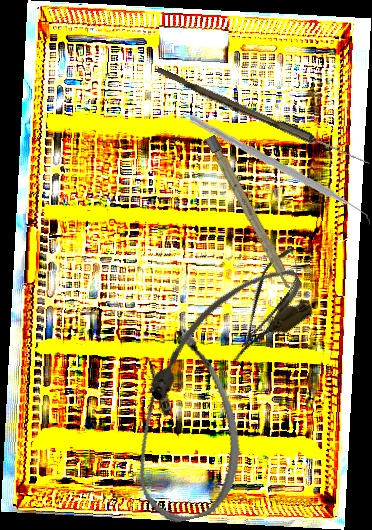Cannula: (128, 255, 320, 413), (108, 323, 255, 529)
Chopper: (189, 105, 371, 243)
Micro Scissor: (227, 240, 311, 357)
Scalpel Handle: (205, 134, 296, 293)
Surgical Spoon: (154, 67, 372, 168)
